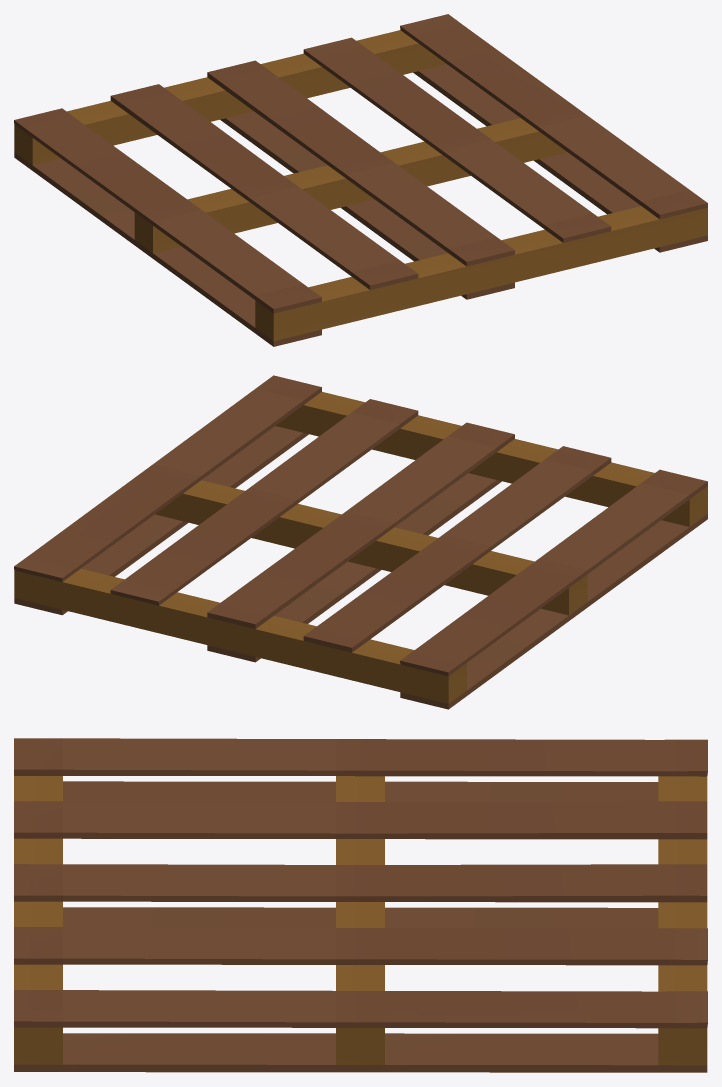
Rendered from Large Single Pallet Dark.fbx.
3 renders of one model, top to bottom at view 1: azimuth 30°, elevation 25°; view 2: azimuth 150°, elevation 25°; view 3: azimuth 270°, elevation 25°, orthographic. The views are drawn at different scales.
Parts seen in each view (by area): view 1: Large Single Pallet Dark; view 2: Large Single Pallet Dark; view 3: Large Single Pallet Dark.
Part boxes in pixels (left/top/right/bottom): Large Single Pallet Dark: left=14, top=14, right=707, bottom=346; Large Single Pallet Dark: left=14, top=375, right=707, bottom=709; Large Single Pallet Dark: left=14, top=738, right=707, bottom=1072.
Bounding box in the file's own units: 49.81 × 611 × 590.
1 material, 1 textured.
